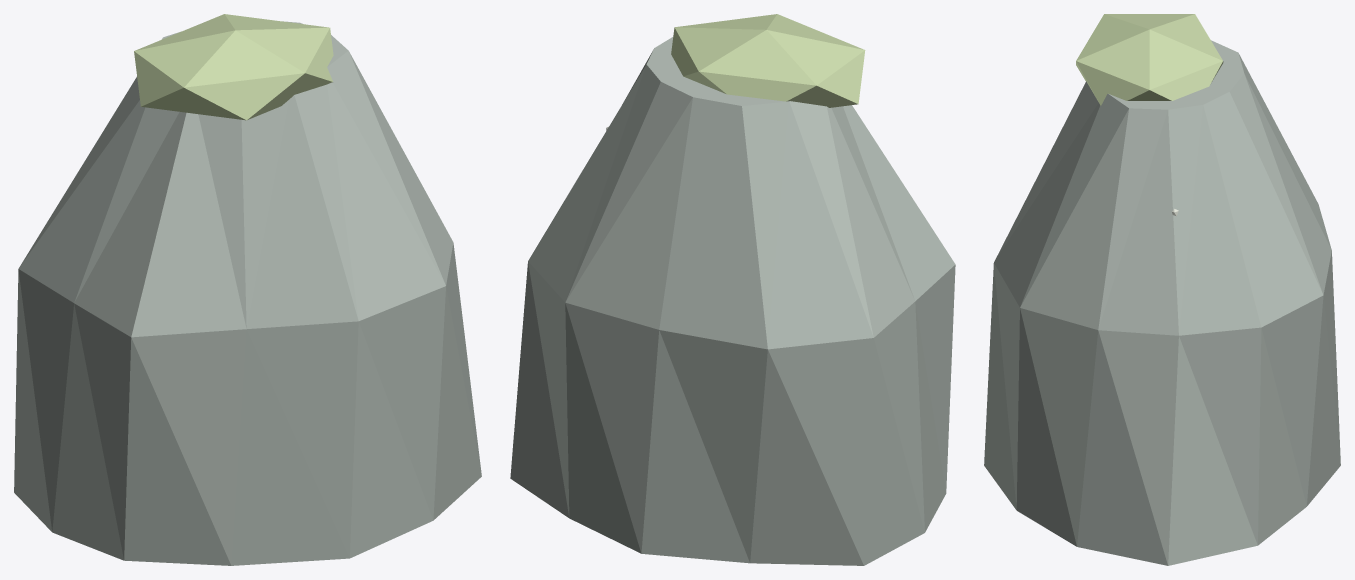
Rendered from world_rock_a.fbx.
3 renders of one model, left to right at view 1: azimuth 30°, elevation 25°; view 2: azimuth 150°, elevation 25°; view 3: azimuth 270°, elevation 25°, orthographic. The views are drawn at different scales.
Visible parts, largest first — view 1: world_rock_a_mesh; view 2: world_rock_a_mesh; view 3: world_rock_a_mesh.
Boxes of the visible parts, x1,y1,x2,y2 form: world_rock_a_mesh: (14, 14, 481, 565); world_rock_a_mesh: (510, 14, 955, 565); world_rock_a_mesh: (984, 14, 1340, 565).
Size of the model in its own units: 0.7186 by 0.76 by 0.5773.
